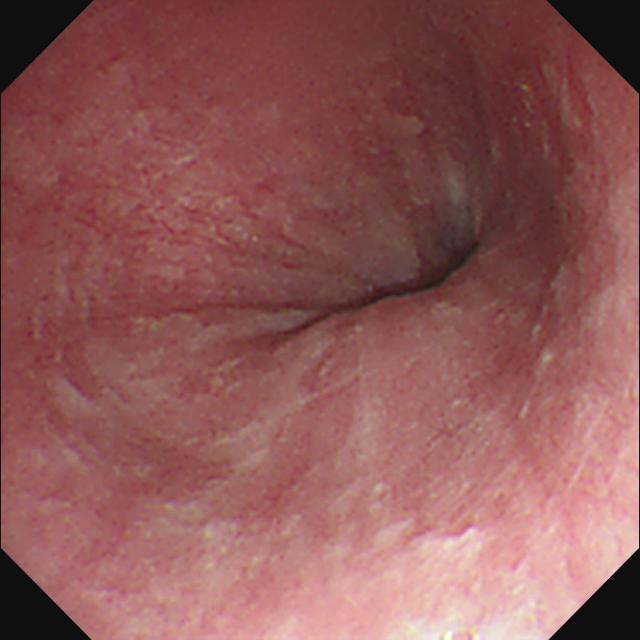A: (93, 171, 268, 273), (525, 58, 617, 215)
E: (349, 241, 490, 304)
